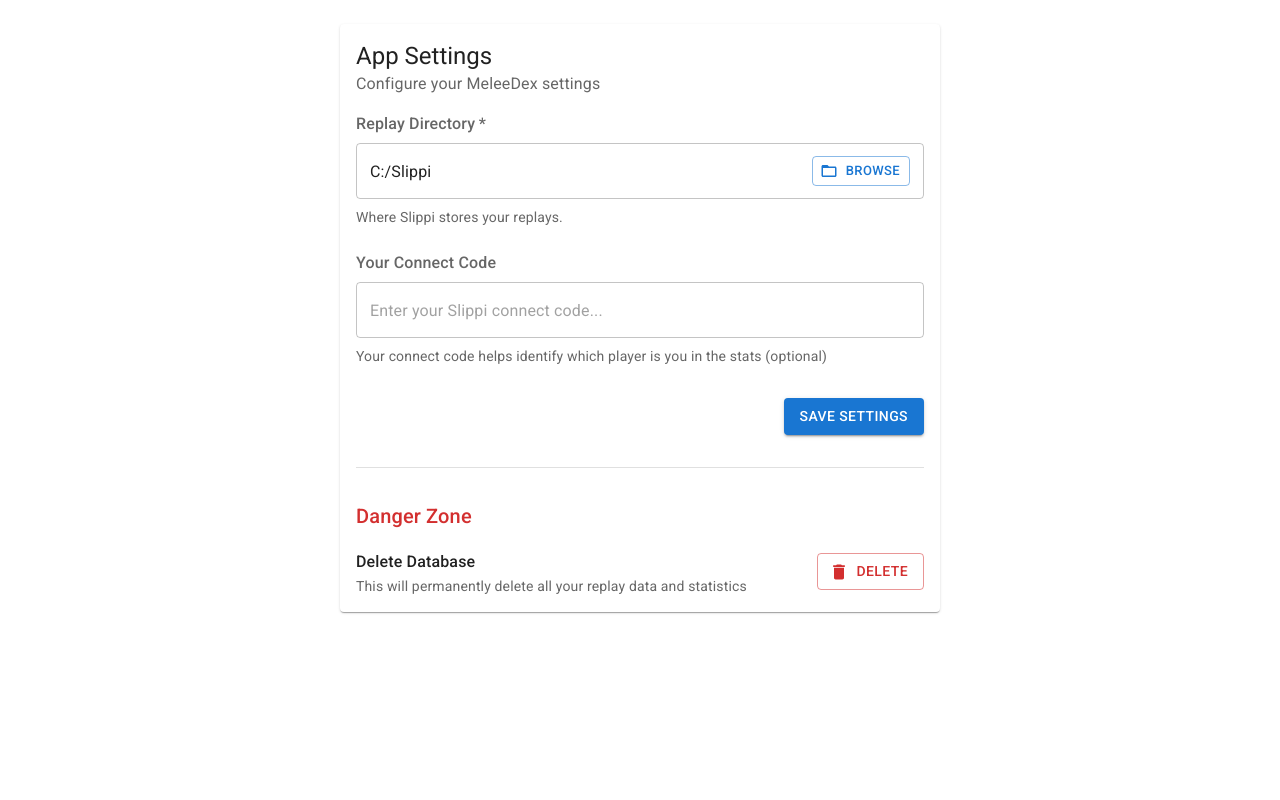
Test: SettingsPage — deleting the database › asks for confirmation before destroying anything
Step 1. Click the button "Delete" → (870, 572), box [816,553,924,590]
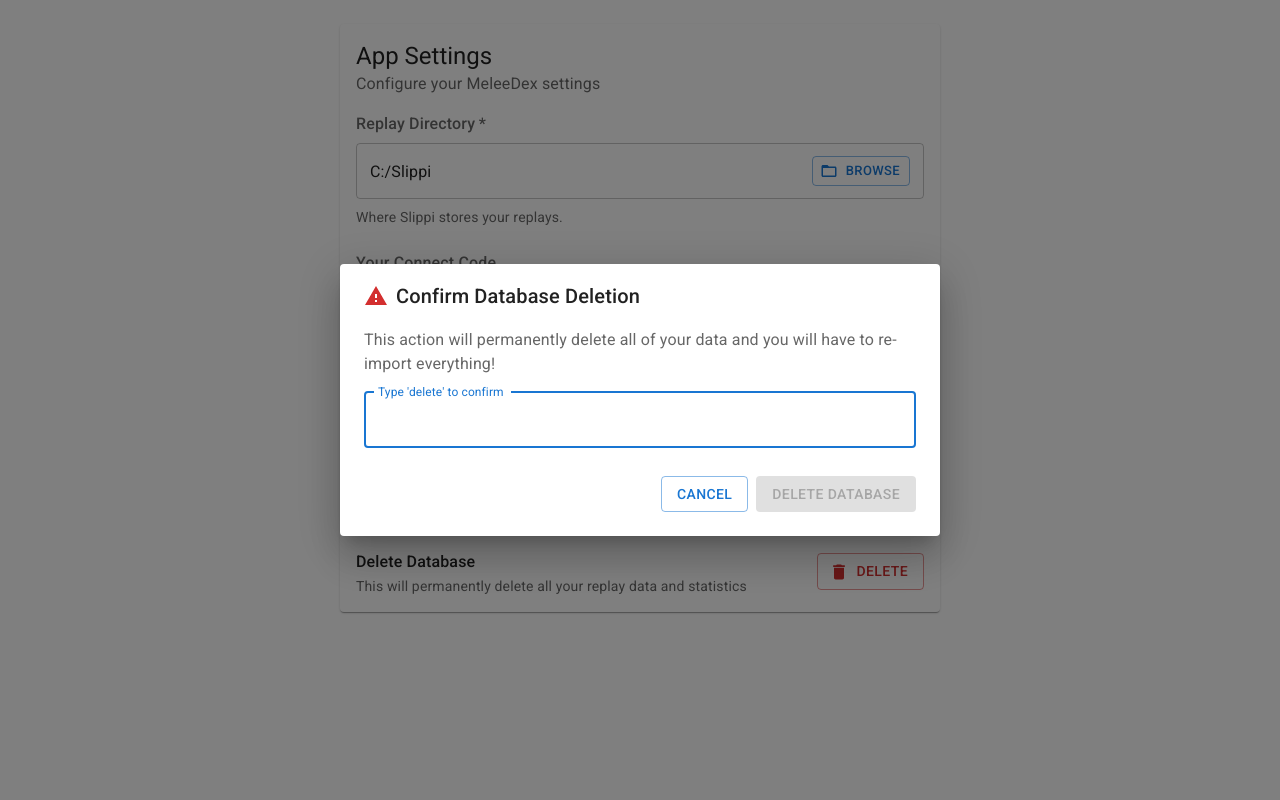
Now the heading "Confirm Database Deletion" is shown, box [364,284,640,308]
